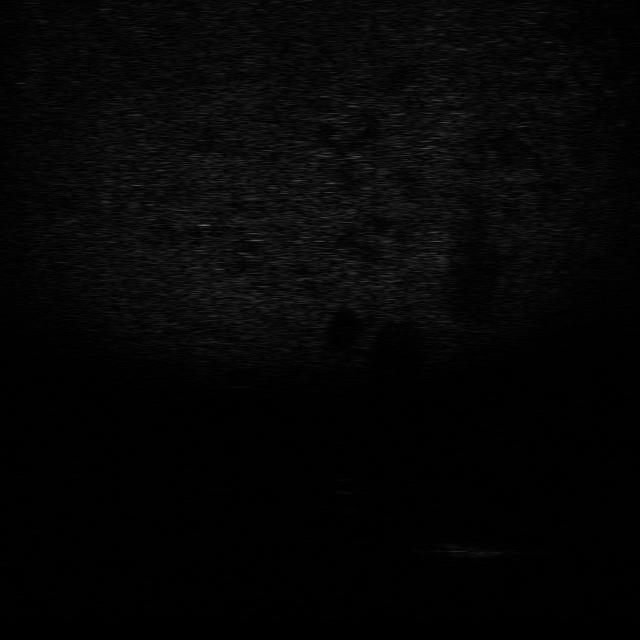ball: (326, 477, 365, 497)
metal bucket: (438, 540, 512, 562)
tyre: (382, 516, 440, 557)
